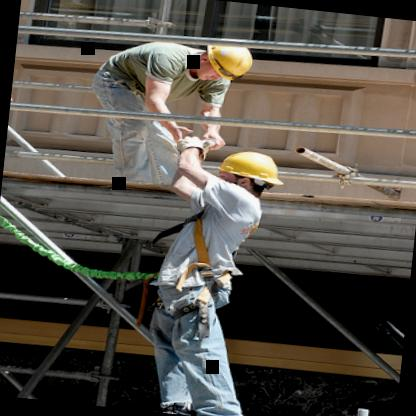helmet: (211, 144, 293, 202), (180, 33, 264, 88)
